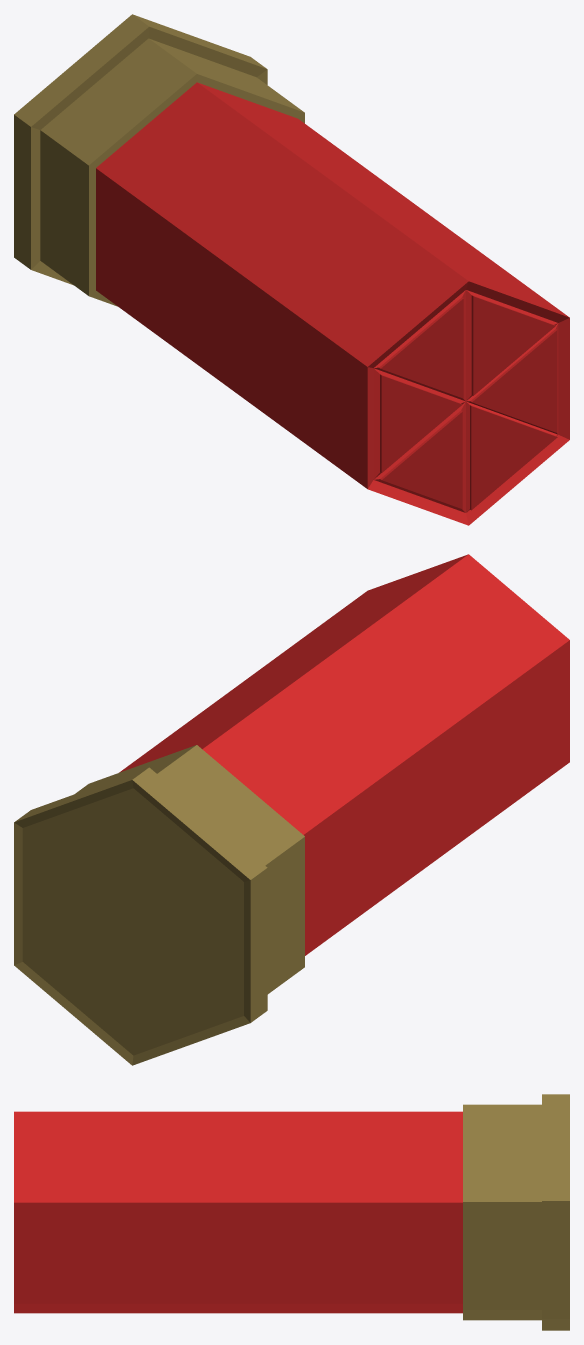
Rendered from LP_ASST_ShotgunSheell.fbx.
The picture shows the model from 3 angles, top to bottom: view 1: azimuth 30°, elevation 25°; view 2: azimuth 150°, elevation 25°; view 3: azimuth 270°, elevation 25°; orthographic projection. The views are drawn at different scales.
Visible parts, largest first — view 1: Shotgun_Shell; view 2: Shotgun_Shell; view 3: Shotgun_Shell.
Boxes of the visible parts, bbox=[...] form: Shotgun_Shell: bbox=[14, 14, 569, 525]; Shotgun_Shell: bbox=[14, 554, 569, 1065]; Shotgun_Shell: bbox=[14, 1094, 569, 1330].
Bounding box in the file's own units: 0.4317 × 0.4985 × 1.06.
